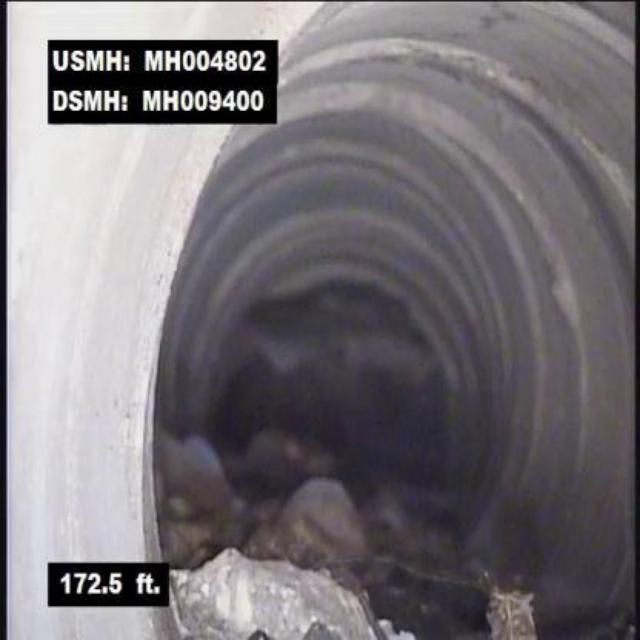Debris: (171, 532, 500, 638)
